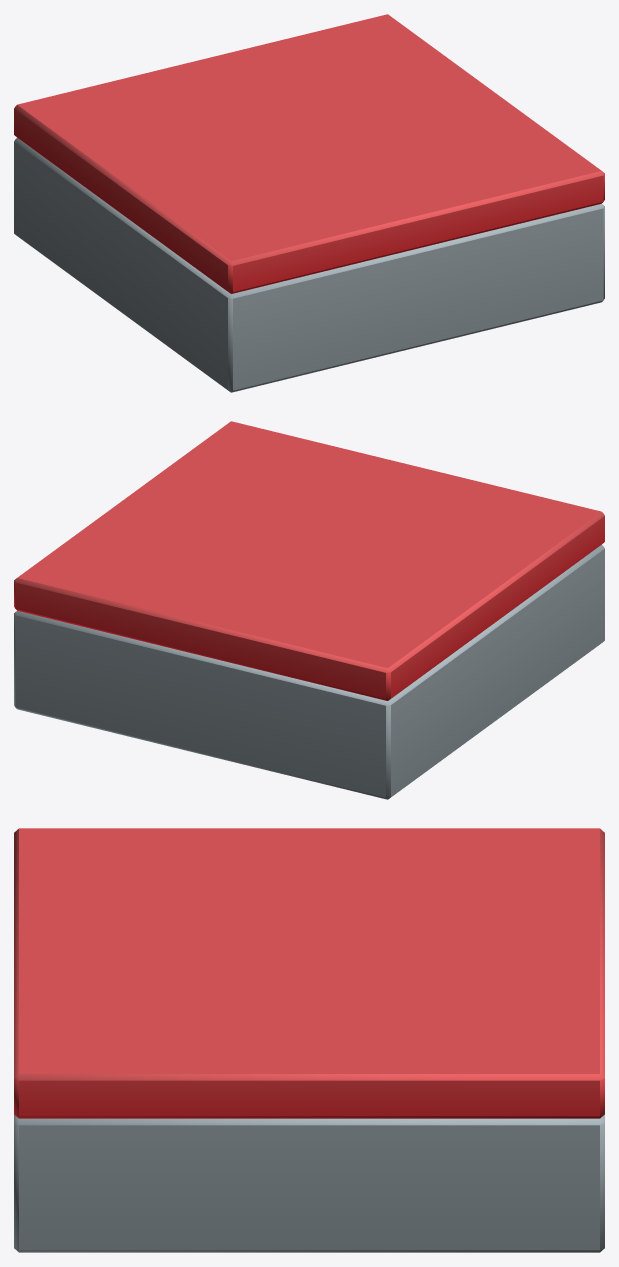
File: kaykit_platform_6x6x2_red.glb
3 views of the same model, one above another, from view 1: azimuth 30°, elevation 25°; view 2: azimuth 150°, elevation 25°; view 3: azimuth 270°, elevation 25° (orthographic). The views are drawn at different scales.
Visible parts, largest first — view 1: platform_6x6x2_red_visual; view 2: platform_6x6x2_red_visual; view 3: platform_6x6x2_red_visual.
Part boxes in pixels (x1,y1,x2,y2): platform_6x6x2_red_visual: (14, 14, 604, 392); platform_6x6x2_red_visual: (14, 421, 604, 799); platform_6x6x2_red_visual: (14, 828, 604, 1252).
Size of what is drawn, in the model's own units: 6 by 2 by 6.
1 material, 1 textured.
